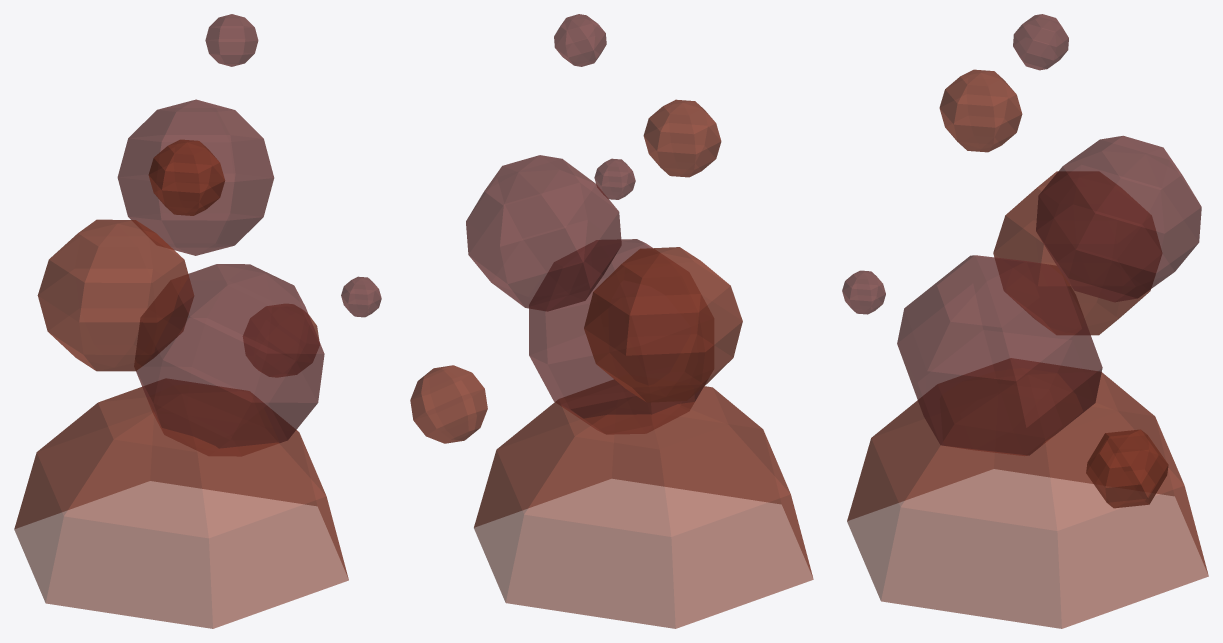
File: awa.fbx
3 views of the same model, side by side, from view 1: azimuth 30°, elevation 25°; view 2: azimuth 150°, elevation 25°; view 3: azimuth 270°, elevation 25° (orthographic). The views are drawn at different scales.
Visible parts, largest first — view 1: pSphere3, pSphere1, pSphere2, pSphere5, pSphere4, pSphere7, pSphere8, pSphere6; view 2: pSphere3, pSphere1, pSphere2, pSphere5, pSphere7, pSphere4, pSphere8, pSphere6; view 3: pSphere3, pSphere1, pSphere2, pSphere5, pSphere4, pSphere7, pSphere8, pSphere6.
Part boxes in pixels (<box>): pSphere3: <box>14,379,348,628</box>; pSphere1: <box>135,264,324,456</box>; pSphere2: <box>37,219,193,371</box>; pSphere5: <box>117,99,274,255</box>; pSphere4: <box>148,139,225,215</box>; pSphere7: <box>243,304,319,376</box>; pSphere8: <box>205,14,258,66</box>; pSphere6: <box>341,276,381,317</box>; pSphere3: <box>474,379,813,628</box>; pSphere1: <box>529,239,703,434</box>; pSphere2: <box>584,247,742,402</box>; pSphere5: <box>466,155,621,311</box>; pSphere7: <box>410,365,487,443</box>; pSphere4: <box>643,99,721,177</box>; pSphere8: <box>554,14,606,66</box>; pSphere6: <box>594,158,635,199</box>; pSphere3: <box>847,358,1208,628</box>; pSphere1: <box>897,255,1102,455</box>; pSphere2: <box>993,171,1161,335</box>; pSphere5: <box>1036,135,1201,302</box>; pSphere4: <box>939,69,1022,152</box>; pSphere7: <box>1086,429,1168,508</box>; pSphere8: <box>1013,14,1068,70</box>; pSphere6: <box>842,270,885,314</box>.
Size of the model in its own units: 9.4 by 14.17 by 8.39.
